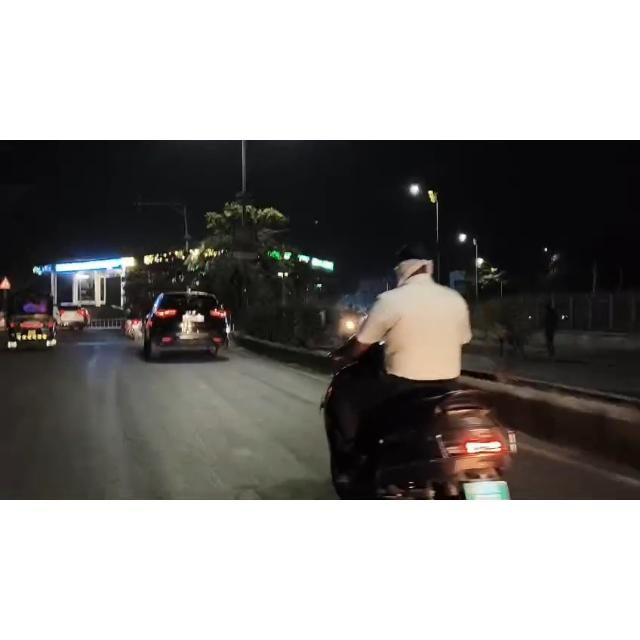auto: (10, 294, 61, 355)
car: (141, 288, 237, 360), (55, 297, 93, 334)
